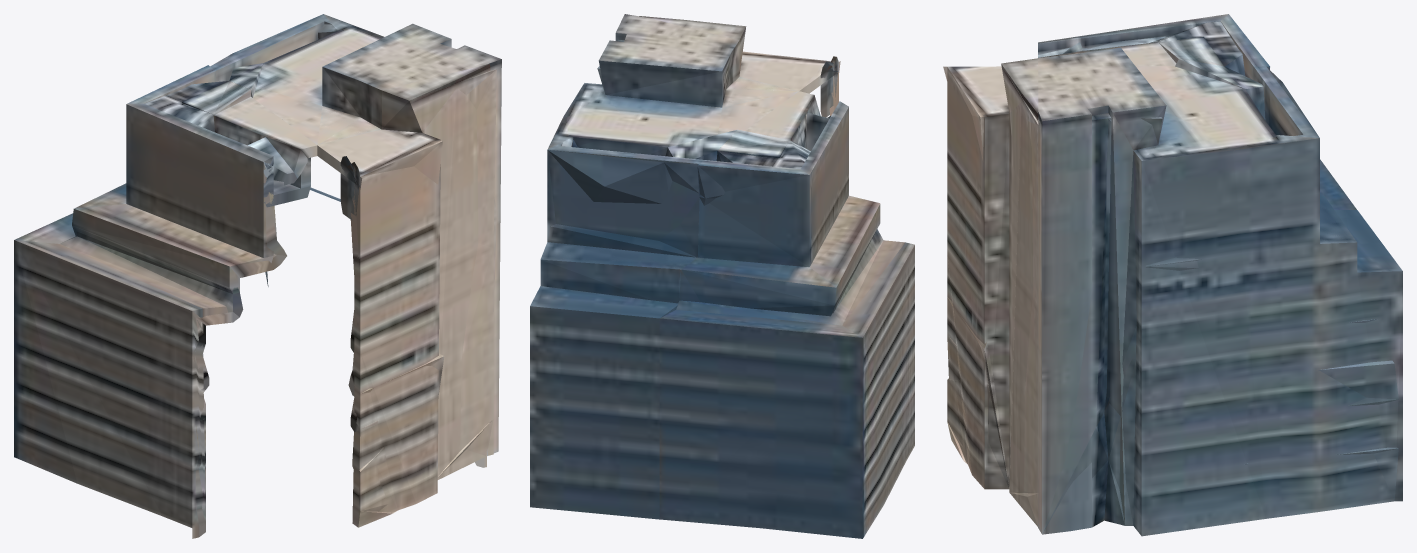
The model's file is chunk_-2_-8.glb.
3 renders of one model, left to right at view 1: azimuth 30°, elevation 25°; view 2: azimuth 150°, elevation 25°; view 3: azimuth 270°, elevation 25°, orthographic. The views are drawn at different scales.
Parts seen in each view (by area): view 1: hero-chunk; view 2: hero-chunk; view 3: hero-chunk.
Part boxes in pixels (x1,y1,x2,y2): hero-chunk: (14,14,501,538); hero-chunk: (530,14,914,538); hero-chunk: (943,14,1402,536).
Size of the model in its own units: 33.84 by 34.93 by 34.13.
Materials: 3 (3 with a texture image).
